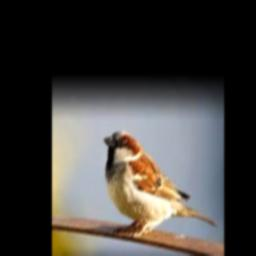Sparrow: (104, 131, 218, 238)
